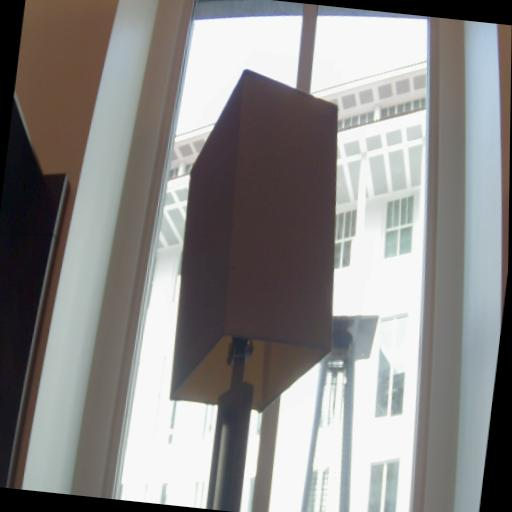lamp: (150, 63, 365, 512)
